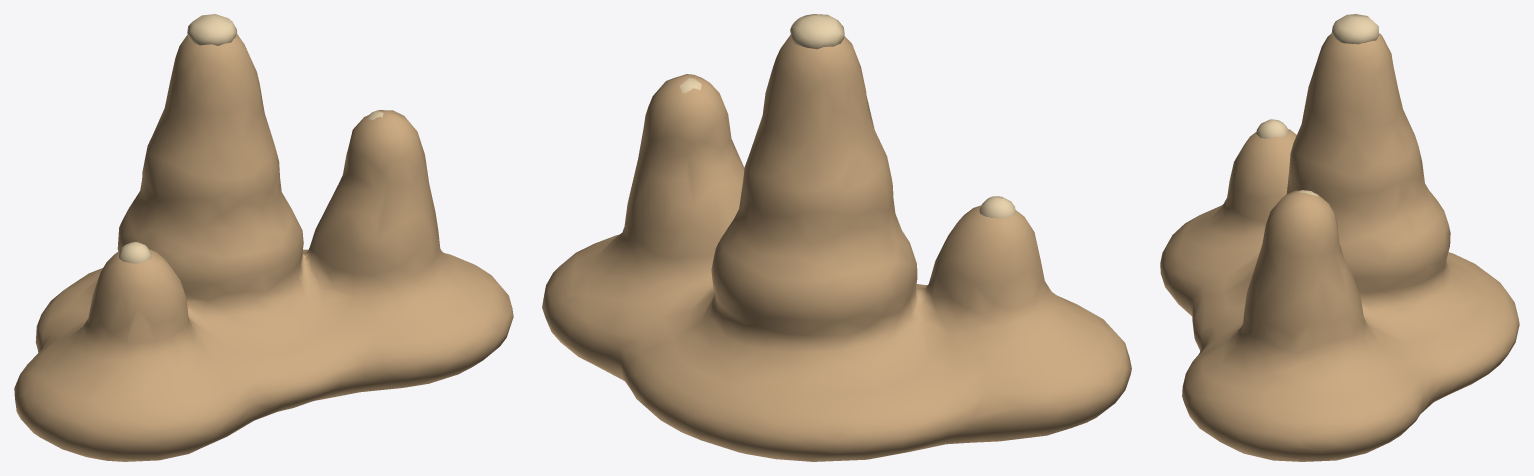
File: stalagmite-b.glb
3 renders of one model, left to right at view 1: azimuth 30°, elevation 25°; view 2: azimuth 150°, elevation 25°; view 3: azimuth 270°, elevation 25°, orthographic. The views are drawn at different scales.
Parts seen in each view (by area): view 1: calcite0, pale1, pale3; view 2: calcite0, pale1, pale3; view 3: calcite0, pale1, pale3.
Part boxes in pixels (x1=…): calcite0: x1=14, y1=34, x2=513, y2=461; pale1: x1=187, y1=14, x2=237, y2=45; pale3: x1=119, y1=242, x2=151, y2=263; calcite0: x1=542, y1=34, x2=1131, y2=461; pale1: x1=790, y1=14, x2=844, y2=49; pale3: x1=979, y1=196, x2=1015, y2=218; calcite0: x1=1160, y1=33, x2=1519, y2=461; pale1: x1=1331, y1=14, x2=1378, y2=44; pale3: x1=1256, y1=119, x2=1288, y2=138.
Size of the model in its own units: 1.7 by 1.23 by 1.12.
